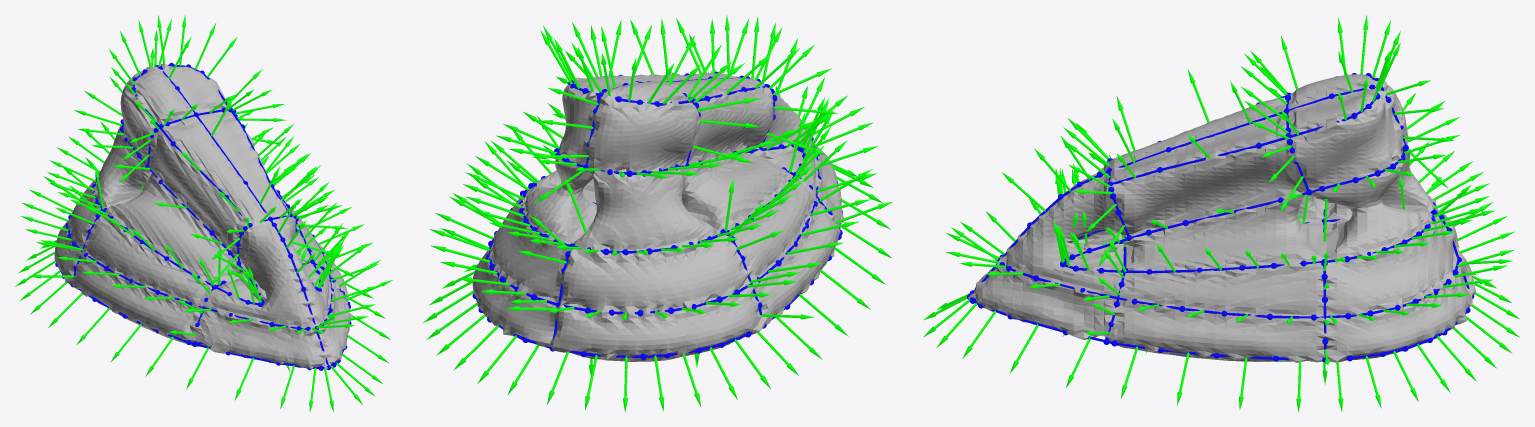
File: t2f_iron.gltf
The picture shows the model from 3 angles, left to right: view 1: azimuth 30°, elevation 25°; view 2: azimuth 150°, elevation 25°; view 3: azimuth 270°, elevation 25°; orthographic projection. The views are drawn at different scales.
Bounding box in the file's own units: 0.6616 × 0.5608 × 0.9547.
